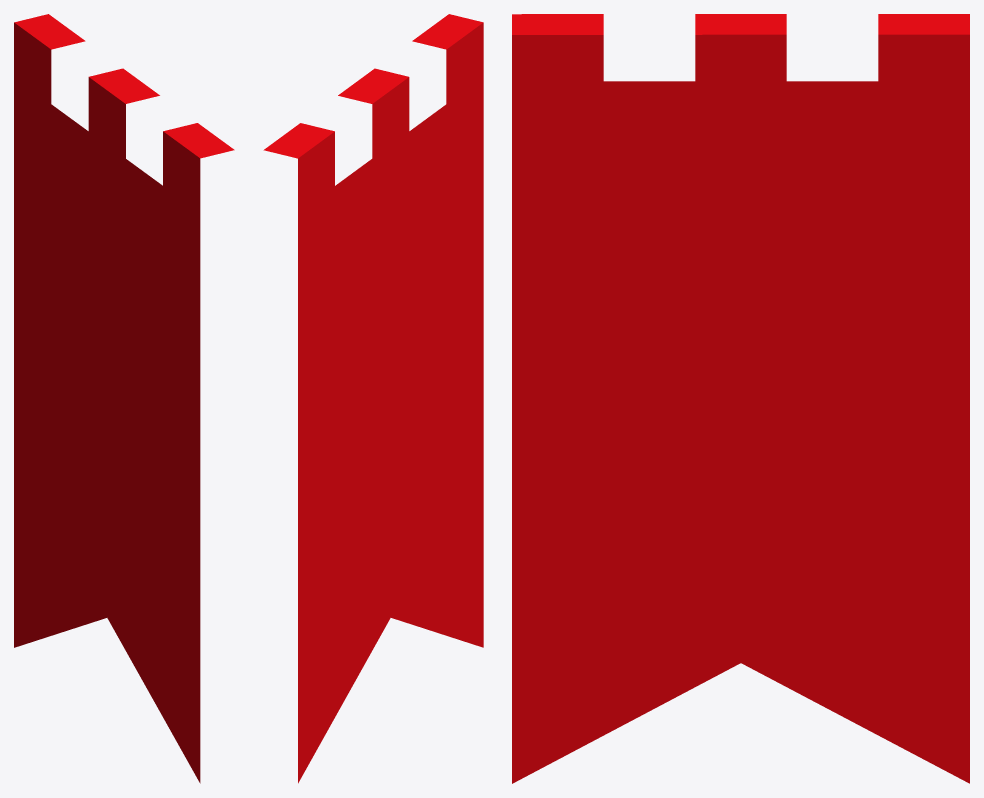
File: banner.glb
3 views of the same model, side by side, from view 1: azimuth 30°, elevation 25°; view 2: azimuth 150°, elevation 25°; view 3: azimuth 270°, elevation 25° (orthographic). The views are drawn at different scales.
Parts seen in each view (by area): view 1: Banner.001; view 2: Banner.001; view 3: Banner.001.
Part boxes in pixels (bbox=[...]): Banner.001: bbox=[14, 14, 234, 783]; Banner.001: bbox=[263, 14, 483, 783]; Banner.001: bbox=[512, 14, 969, 783].
Size of the model in its own units: 0.1313 by 2.26 by 1.22.
